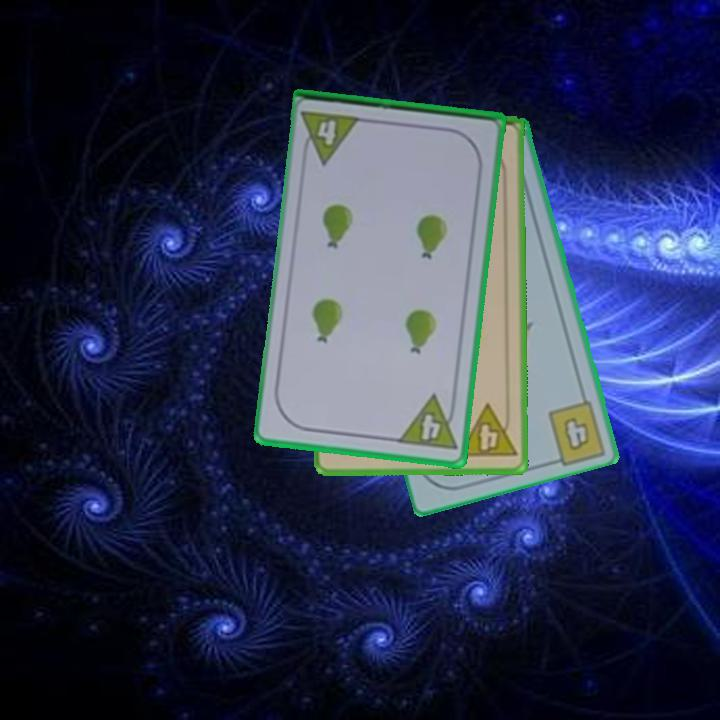4b: (560, 414, 593, 454)
4p: (394, 391, 460, 453), (298, 107, 365, 167), (454, 401, 519, 461)
